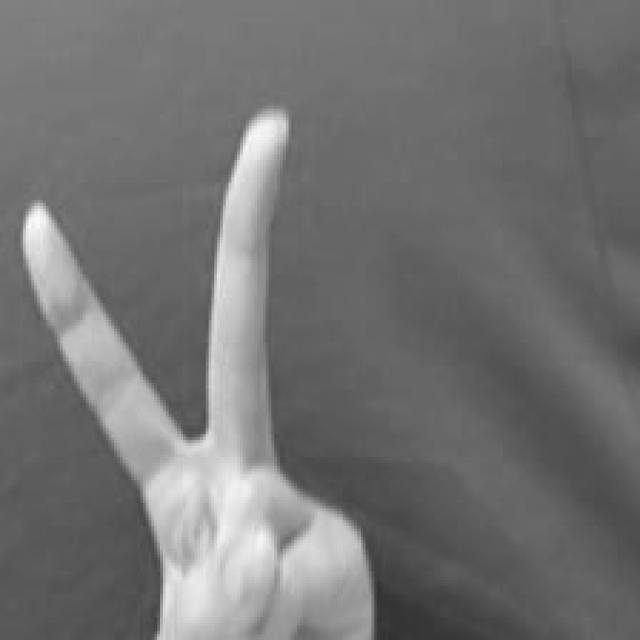V: (19, 105, 374, 640)
